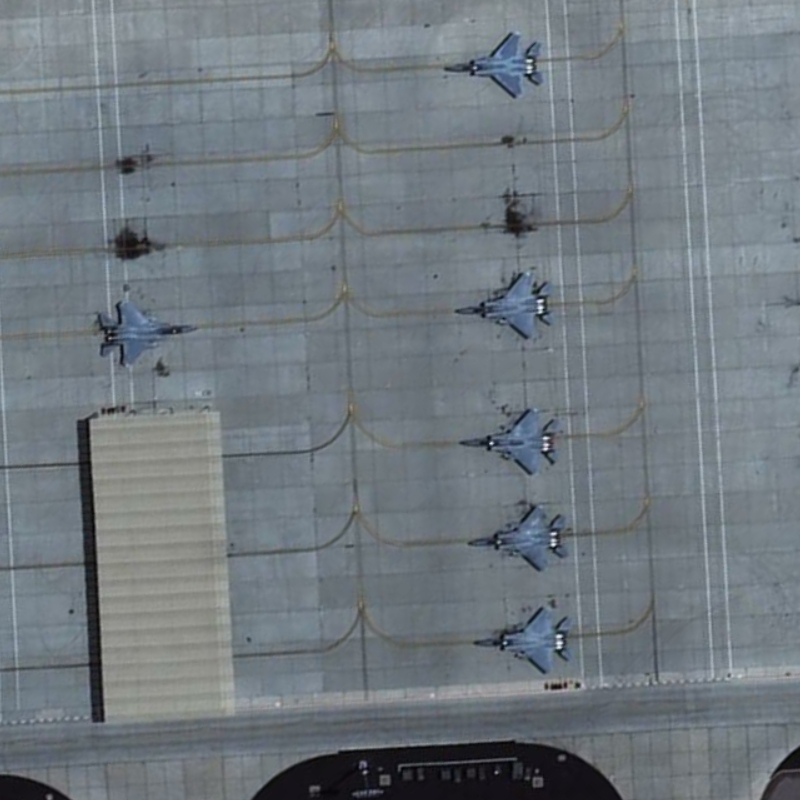A13: (84, 290, 203, 377), (448, 260, 564, 349), (463, 594, 578, 678), (432, 27, 551, 107), (453, 398, 568, 479), (461, 496, 576, 576)
